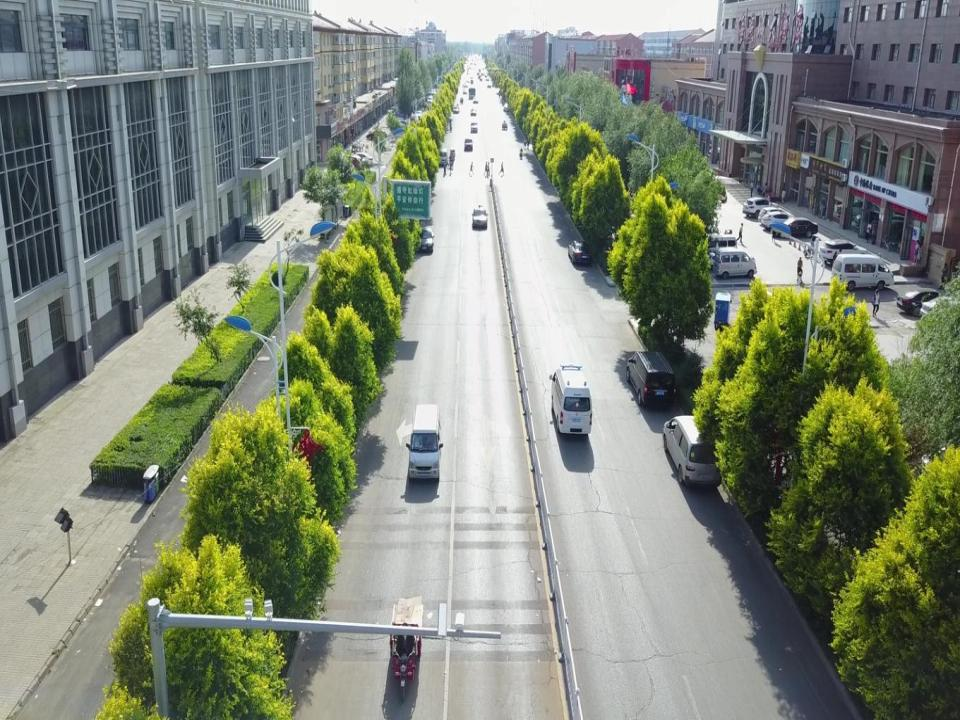bus: (468, 86, 476, 98)
car: (896, 288, 951, 316), (818, 239, 868, 265), (771, 218, 818, 238), (742, 197, 778, 217), (761, 212, 796, 231), (758, 207, 795, 224), (568, 240, 592, 264), (416, 227, 435, 252), (472, 204, 489, 228), (348, 152, 373, 166), (342, 154, 366, 165), (336, 156, 360, 167), (366, 130, 388, 139), (390, 103, 408, 113), (464, 138, 474, 150), (470, 121, 478, 133), (470, 107, 477, 116), (416, 110, 423, 119), (427, 95, 433, 105), (452, 106, 460, 113), (503, 104, 509, 111), (472, 97, 479, 103), (462, 89, 468, 94), (487, 82, 491, 86), (464, 83, 468, 87)
van: (663, 415, 722, 486), (549, 364, 592, 433), (406, 404, 443, 481), (626, 351, 676, 407), (830, 253, 894, 290), (714, 246, 756, 278), (704, 233, 737, 257), (438, 148, 448, 165)
